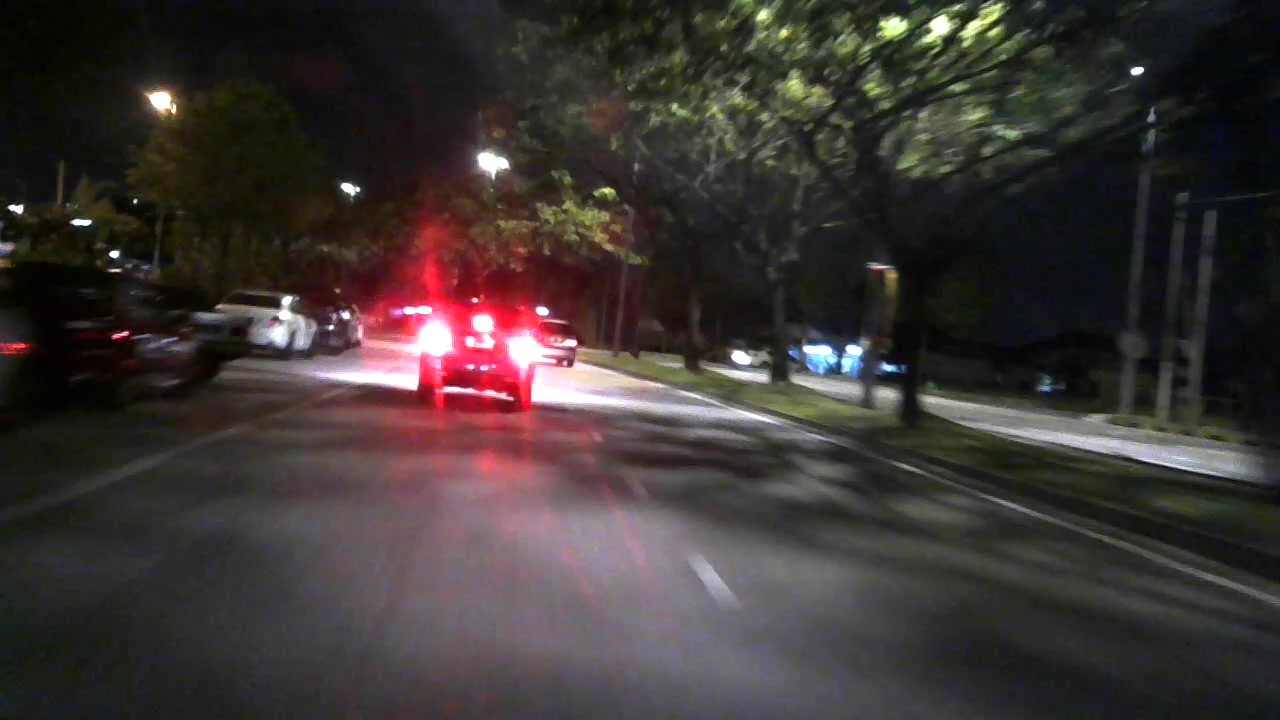Car: (1, 273, 198, 396), (405, 300, 546, 421), (208, 284, 318, 354), (300, 290, 361, 352), (520, 314, 580, 371)
